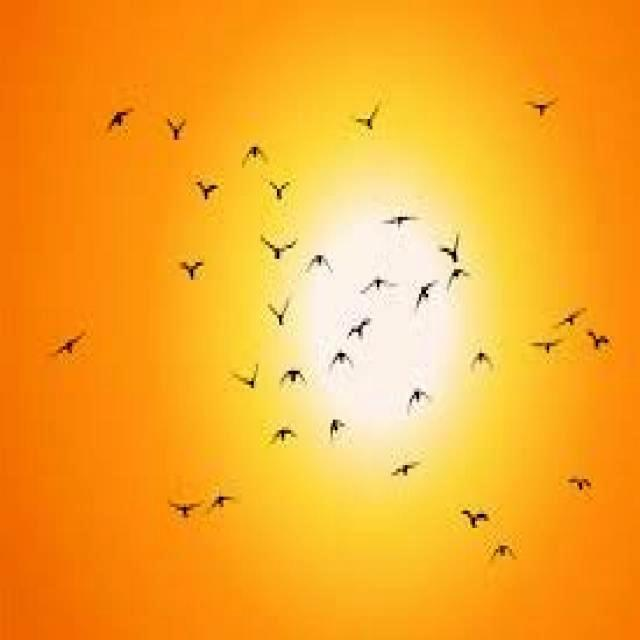bird: (86, 92, 137, 146), (348, 96, 393, 150), (522, 80, 574, 126), (157, 106, 199, 156), (249, 224, 298, 266), (558, 460, 600, 509), (392, 369, 446, 407), (434, 222, 478, 268), (41, 325, 82, 374), (234, 128, 276, 174), (460, 336, 510, 374), (298, 238, 340, 280), (256, 168, 305, 203), (204, 478, 244, 520), (404, 276, 444, 318), (172, 252, 216, 290), (258, 298, 302, 336), (278, 350, 313, 396), (229, 357, 264, 402), (589, 324, 624, 366), (386, 451, 431, 483), (162, 492, 204, 526), (455, 498, 499, 530), (525, 329, 562, 367), (442, 264, 475, 306), (550, 299, 588, 334), (371, 196, 413, 227), (344, 298, 374, 336), (344, 270, 400, 290), (321, 404, 352, 439), (195, 176, 222, 212), (331, 341, 364, 369), (488, 540, 524, 565), (271, 423, 302, 451)
